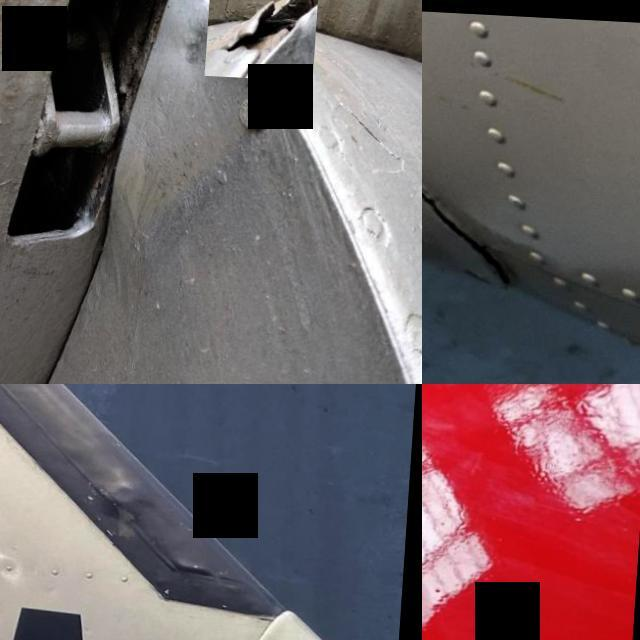Crack: (422, 150, 532, 290), (208, 0, 321, 76), (258, 607, 288, 624)
